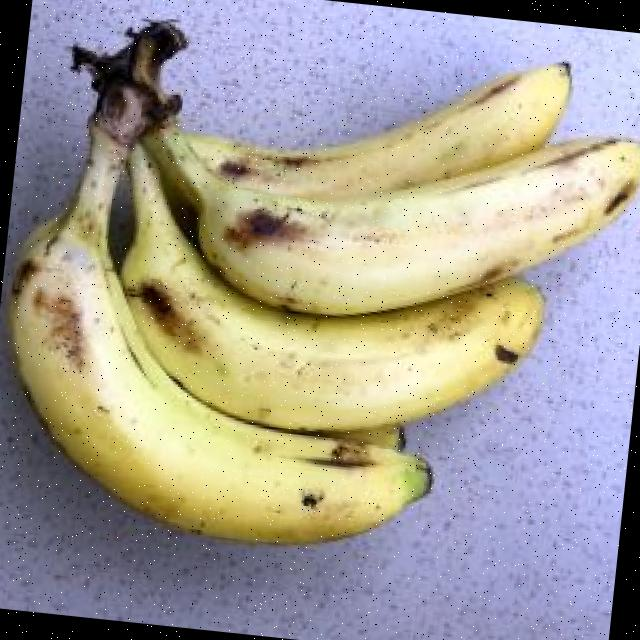banana: (11, 55, 433, 544), (73, 21, 640, 313), (125, 145, 546, 431), (170, 62, 573, 195)
